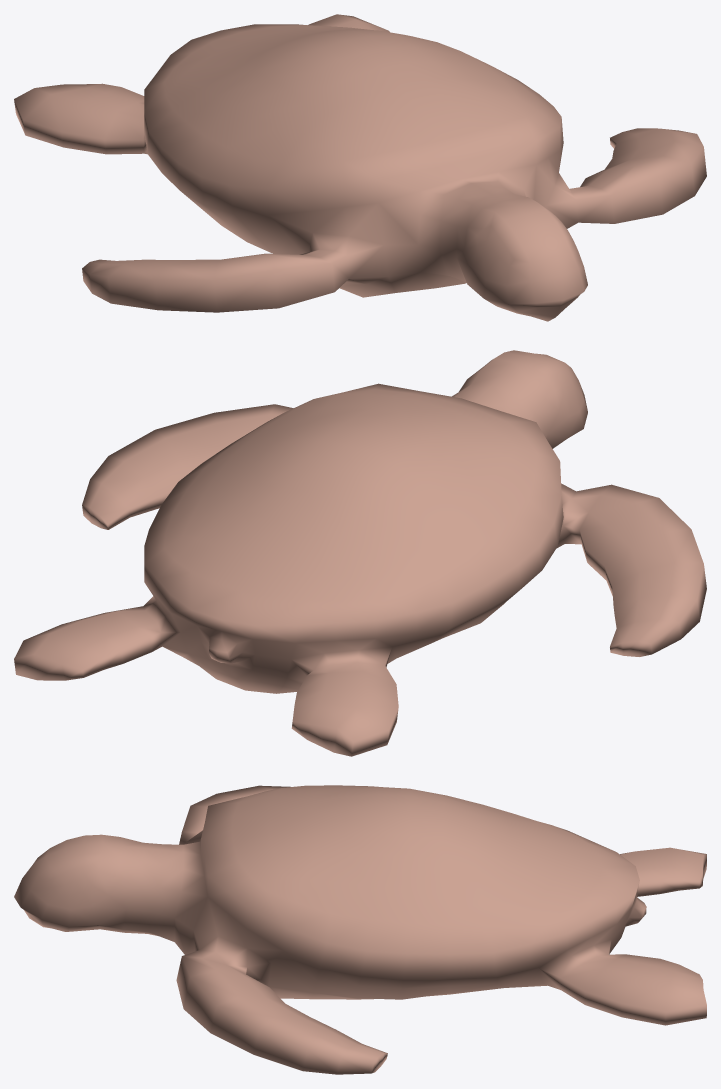
File: Turtle 1.fbx
3 views of the same model, one above another, from view 1: azimuth 30°, elevation 25°; view 2: azimuth 150°, elevation 25°; view 3: azimuth 270°, elevation 25° (orthographic). The views are drawn at different scales.
Visible parts, largest first — view 1: Turtle:turtle; view 2: Turtle:turtle; view 3: Turtle:turtle.
Part boxes in pixels (box(x1,y1,x2,y2)): Turtle:turtle: box(14, 14, 706, 321); Turtle:turtle: box(14, 350, 706, 756); Turtle:turtle: box(14, 785, 706, 1074).
Bounding box in the file's own units: 102 × 30.08 × 114.
